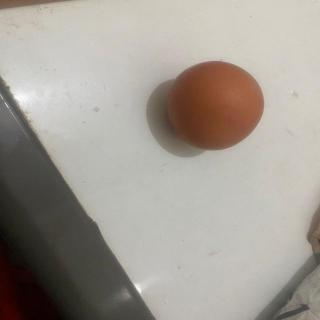Telur: (165, 61, 269, 153)
